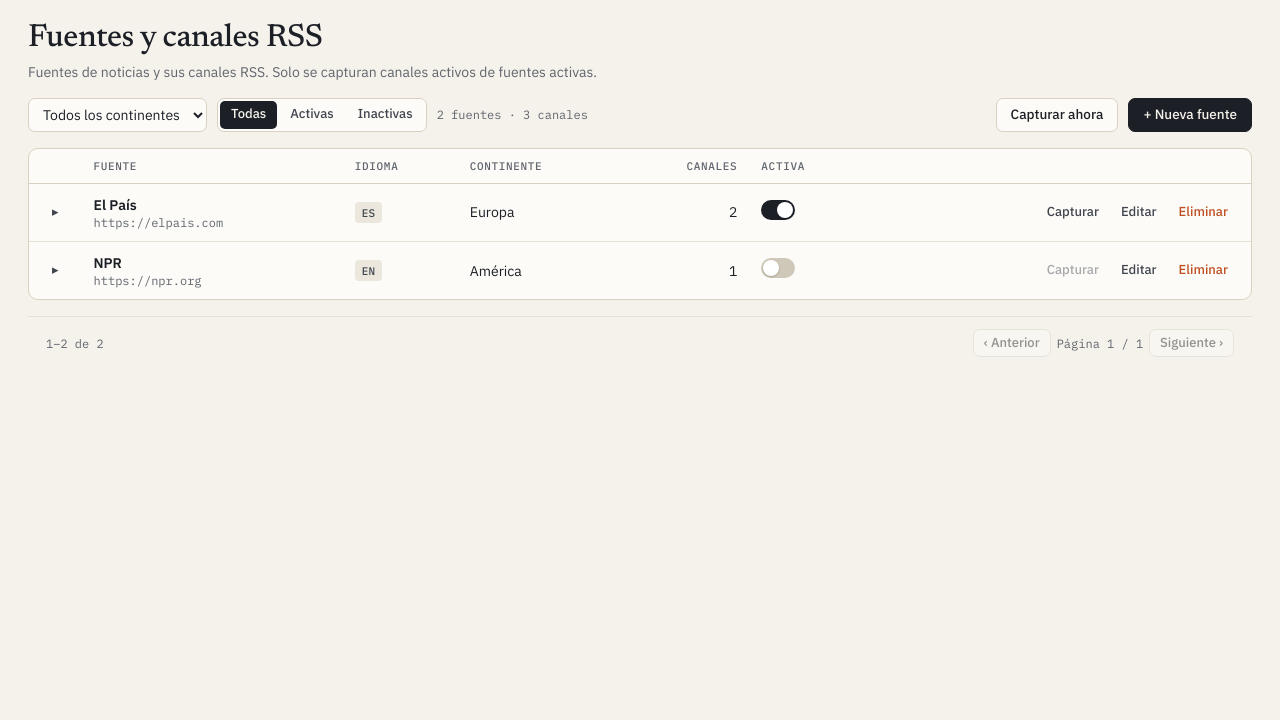
Test: SourcesPage › manual capture › reports a failed source and keeps the table when the request fails
Check: the text "El País" is shown, box [94,196,137,214]
What coordinates should you click on to do the following:
click the button "Capturar ahora"
I would click on:
 (1057, 115)
Its box is [996,98,1118,132].
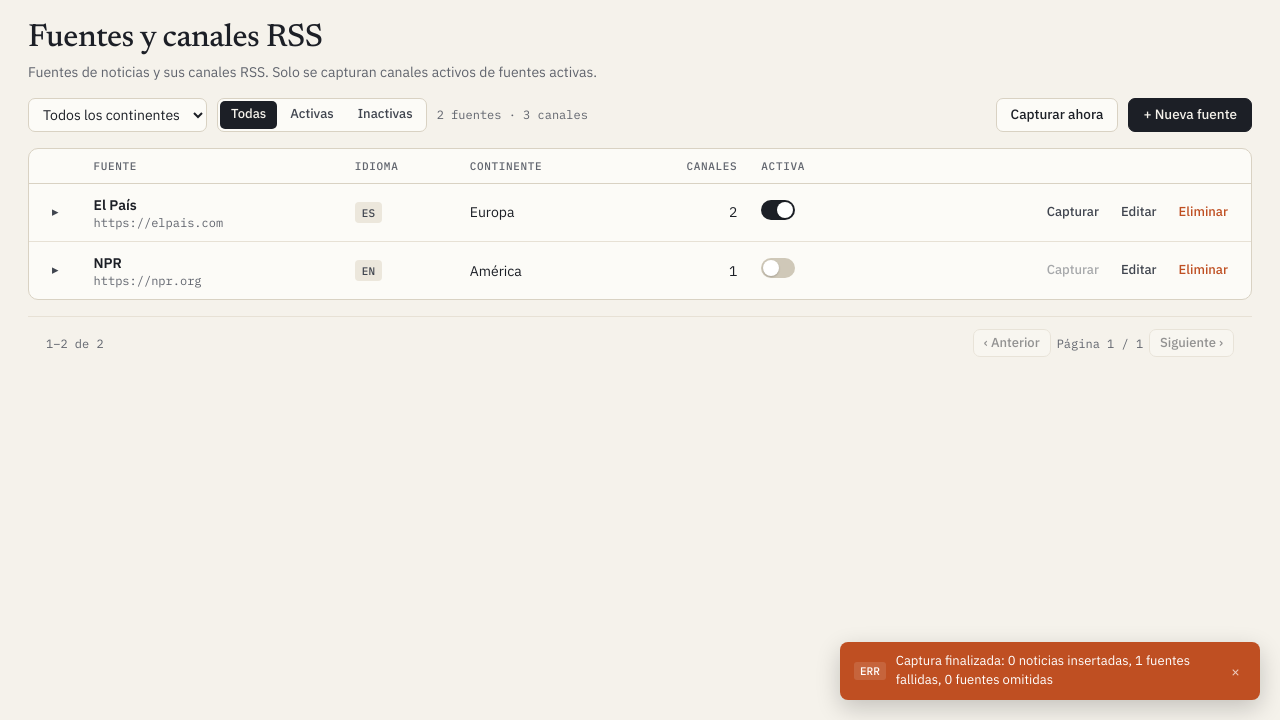
Check: the text "El País" is shown, box [94,196,137,214]
Check: the text "0 noticias insertadas, 1 fuentes fallidas" is shown, box [896,652,1190,688]
